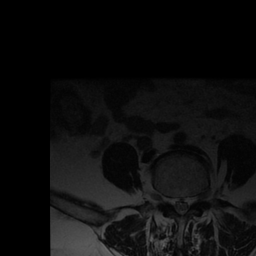CCS_normal: (178, 189, 184, 220)
LFS_normal: (192, 186, 198, 208)
LLS_normal: (184, 189, 191, 214)
RFS_normal: (163, 187, 171, 211)
RLS_normal: (171, 189, 178, 215)
